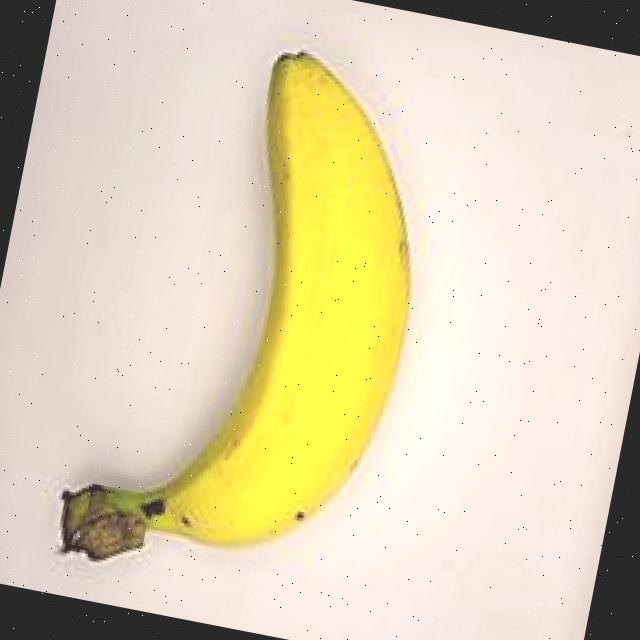Ripe: (2, 0, 496, 630)
